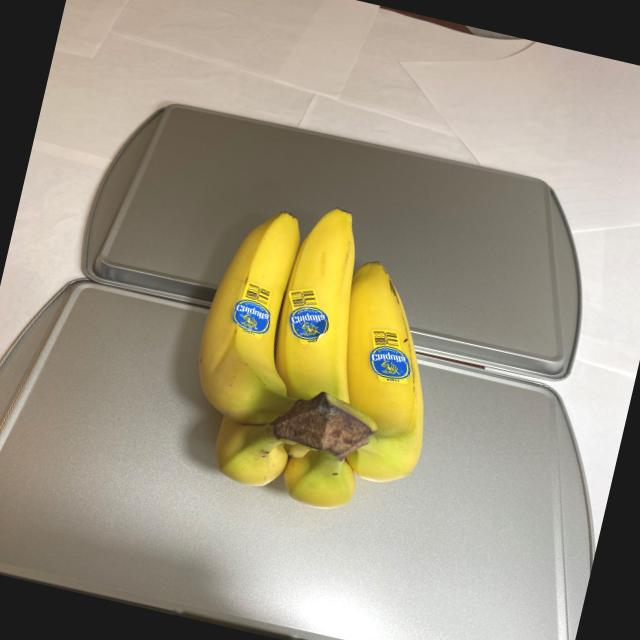banana: (172, 178, 474, 528)
